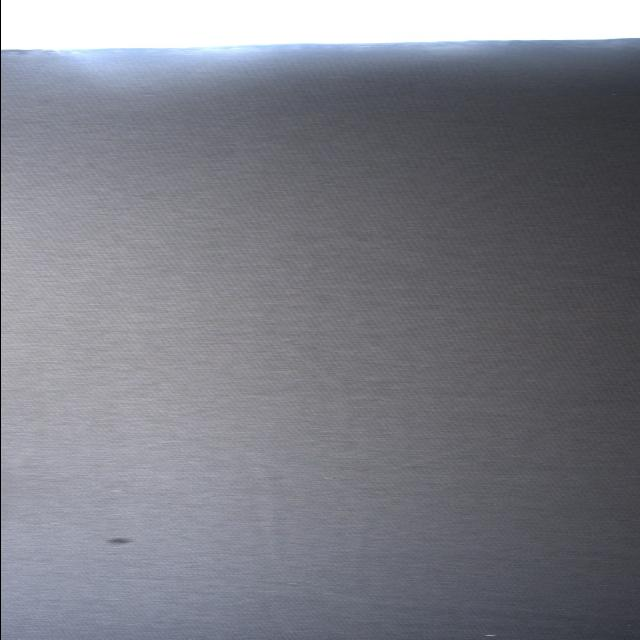crease: (433, 163, 522, 215), (241, 470, 287, 568)
